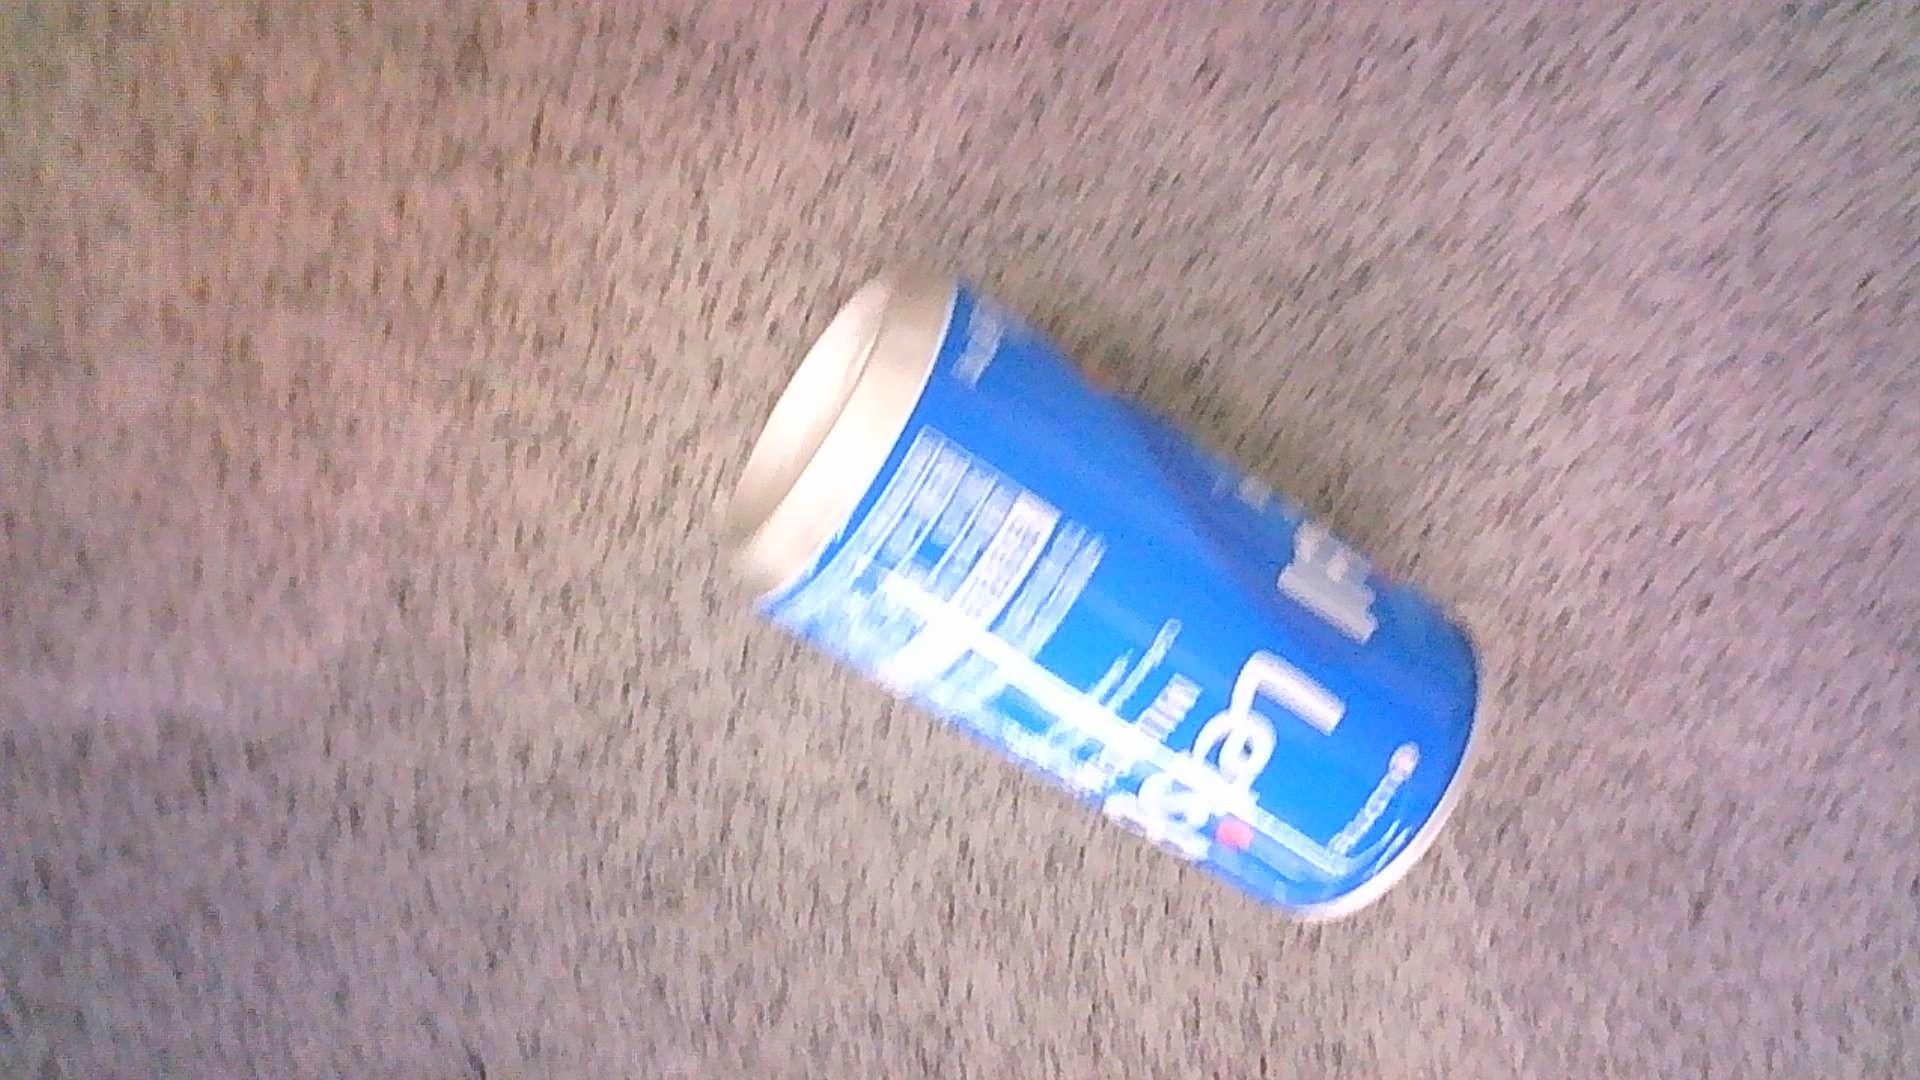letsbe: (721, 266, 1491, 920)
